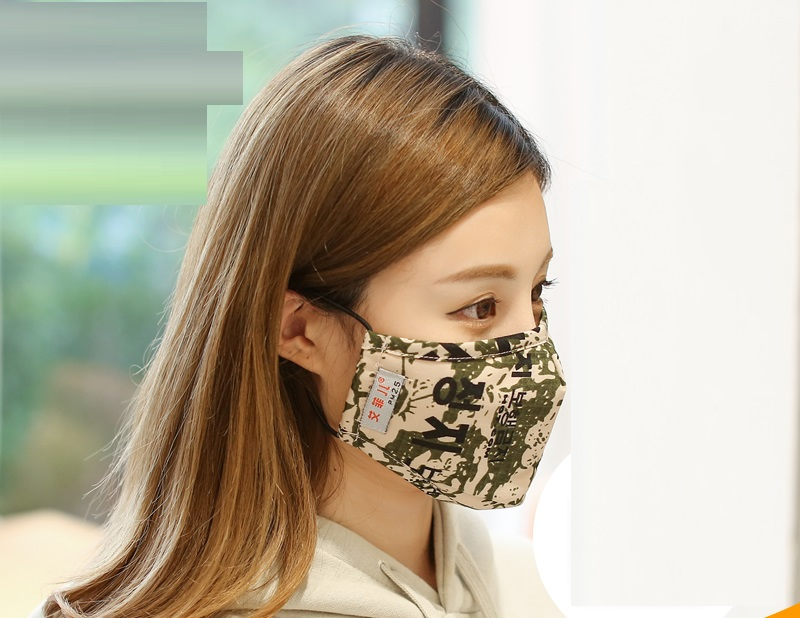face_mask: (338, 165, 569, 510)
